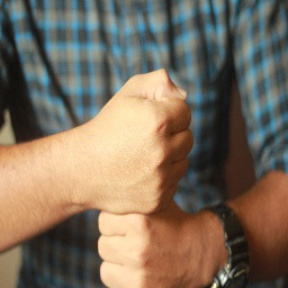G: (88, 60, 208, 288)
